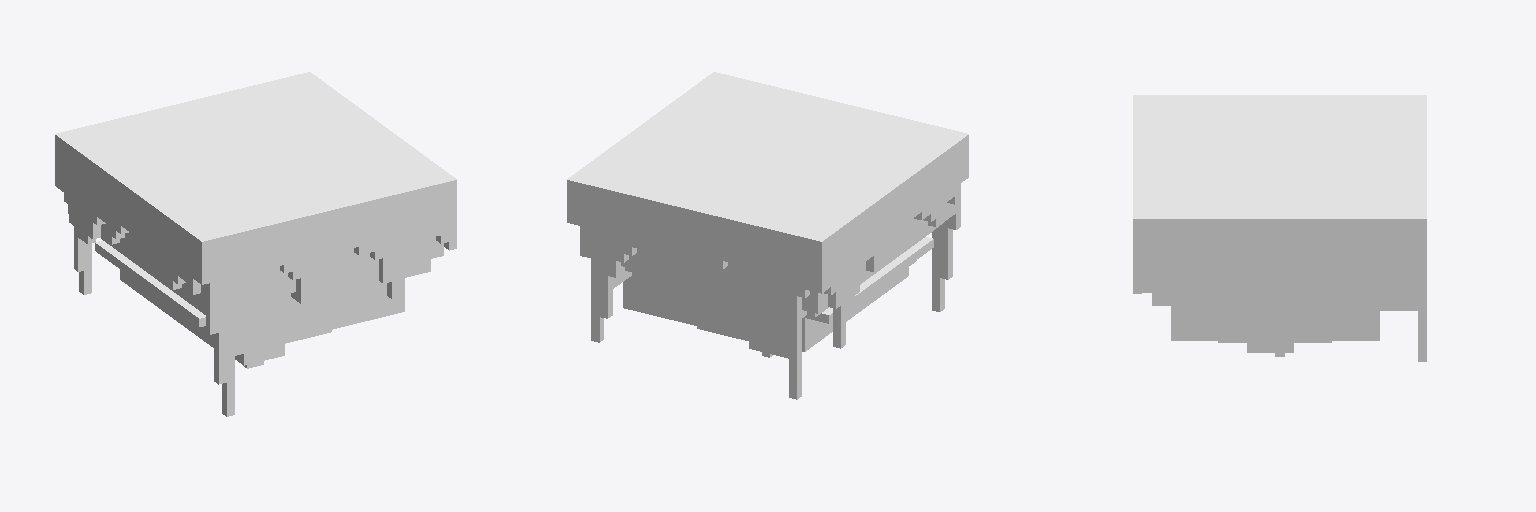
The model's file is jardin1.obj.
3 views of the same model, side by side, from view 1: azimuth 30°, elevation 25°; view 2: azimuth 150°, elevation 25°; view 3: azimuth 270°, elevation 25° (orthographic).
Parts seen in each view (by area): view 1: jardin1; view 2: jardin1; view 3: jardin1.
Part boxes in pixels (left/top/right/bottom): jardin1: left=55, top=72, right=456, bottom=416; jardin1: left=567, top=72, right=968, bottom=399; jardin1: left=1133, top=95, right=1426, bottom=361.
Size of the model in its own units: 31 by 23 by 31.